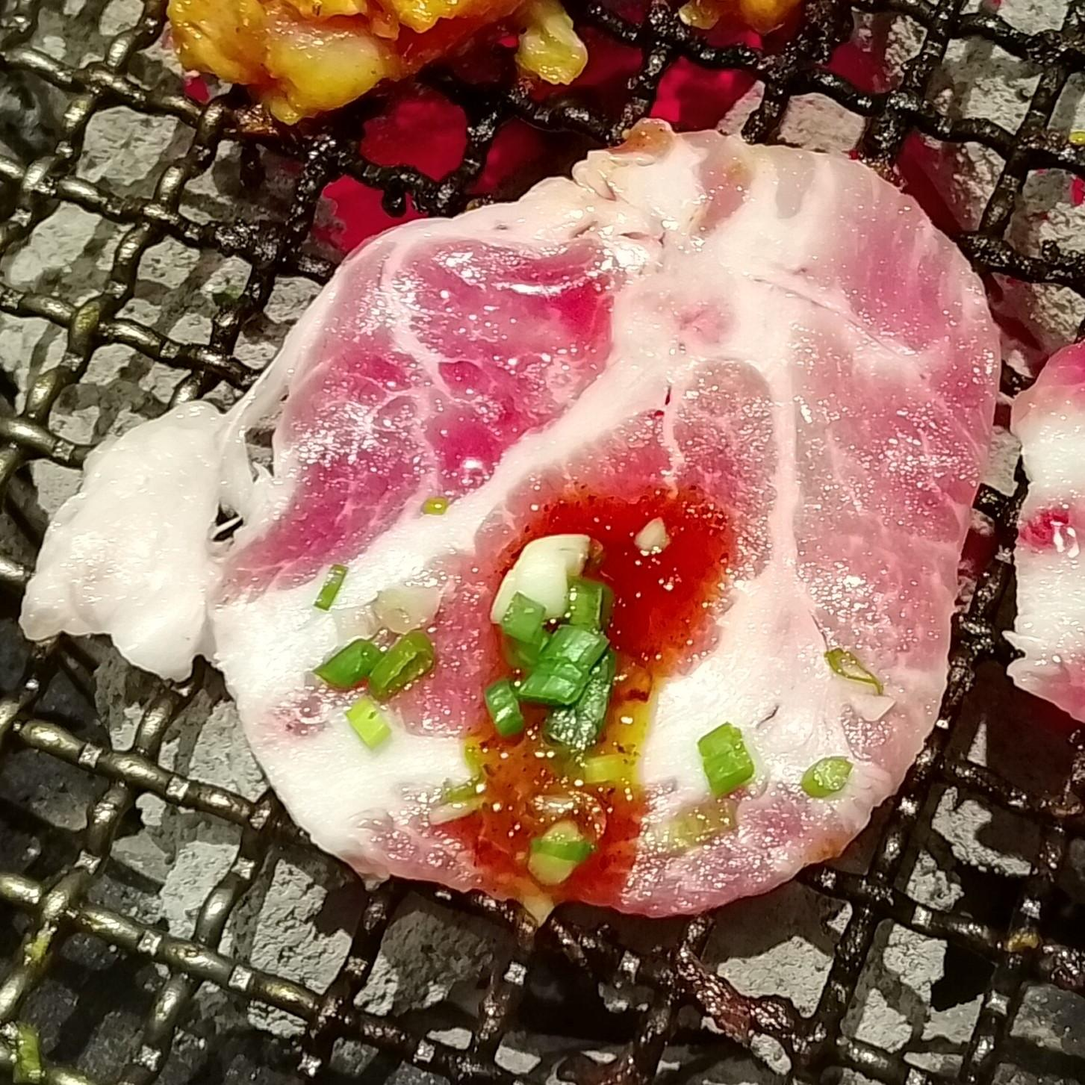Undercooked: (20, 120, 998, 922), (1005, 341, 1084, 723)
